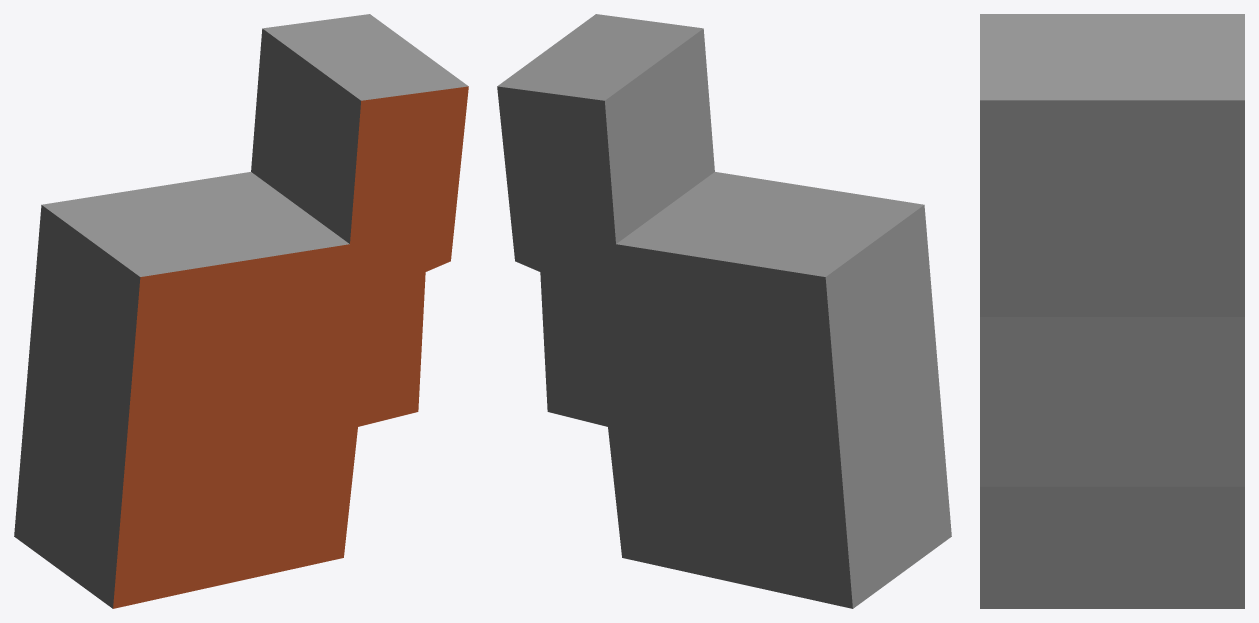
The model's file is construction_3487_assumed_A_Casa_h6m.obj.
The picture shows the model from 3 angles, left to right: view 1: azimuth 30°, elevation 25°; view 2: azimuth 150°, elevation 25°; view 3: azimuth 270°, elevation 25°; orthographic projection. The views are drawn at different scales.
Parts seen in each view (by area): view 1: construction_3487_assumed_A_Casa; view 2: construction_3487_assumed_A_Casa; view 3: construction_3487_assumed_A_Casa.
Part boxes in pixels (x1,y1,x2,y2): construction_3487_assumed_A_Casa: (14, 14, 468, 608); construction_3487_assumed_A_Casa: (497, 14, 951, 608); construction_3487_assumed_A_Casa: (980, 14, 1244, 608).
Size of the model in its own units: 12.46 by 15.15 by 6.
